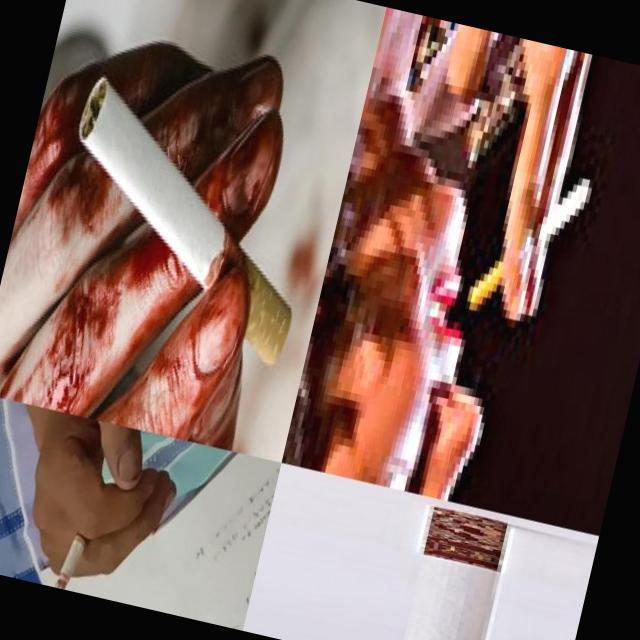cigarette: (32, 71, 338, 376), (462, 154, 596, 332), (394, 503, 515, 640), (48, 508, 98, 593)
